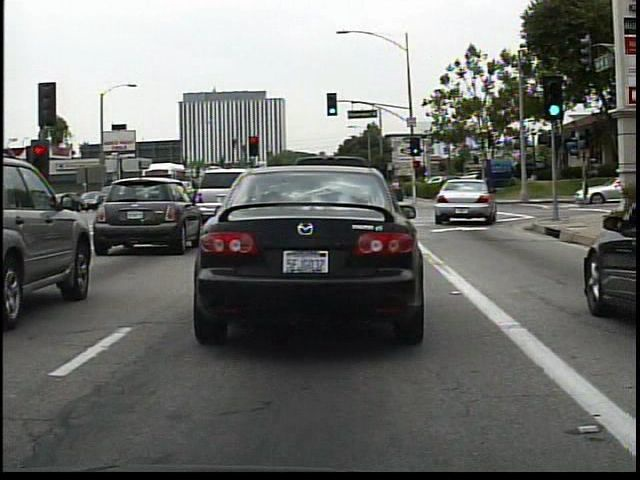person: (386, 173, 406, 208)
